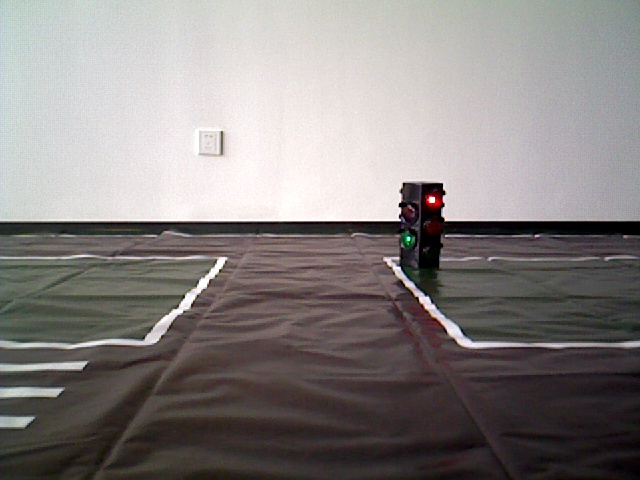red: (403, 180, 442, 273)
